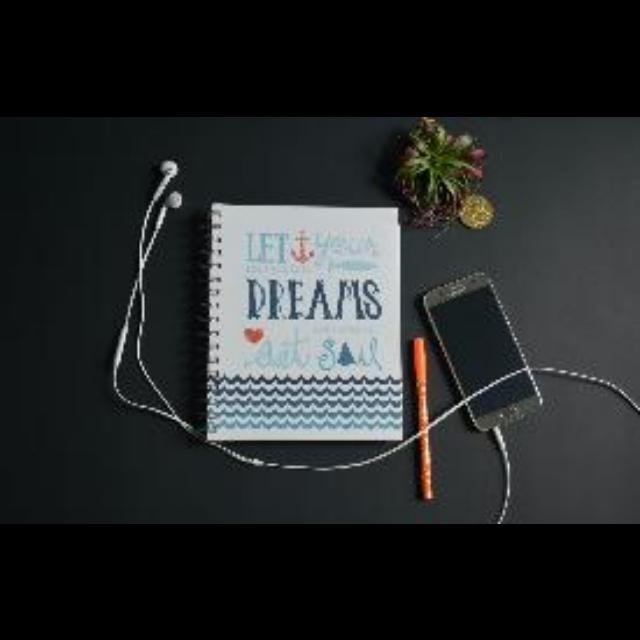Phone: (423, 272, 541, 430)
